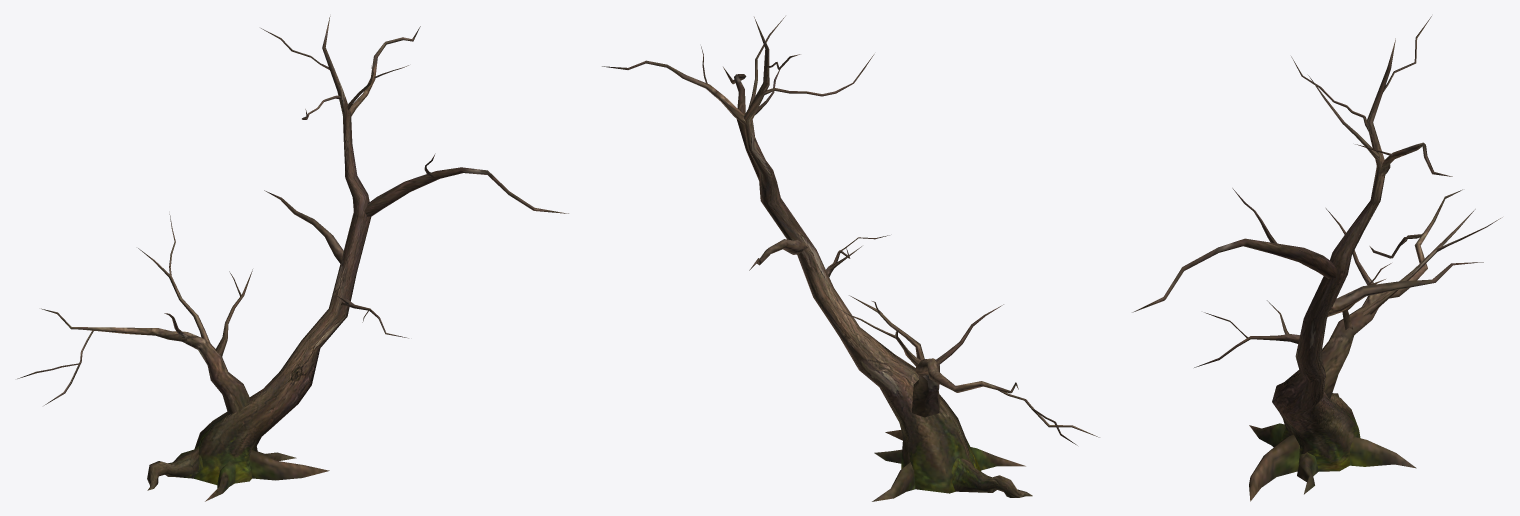
Rendered from S_Tree_Green140.FBX.
3 renders of one model, left to right at view 1: azimuth 30°, elevation 25°; view 2: azimuth 150°, elevation 25°; view 3: azimuth 270°, elevation 25°, orthographic. The views are drawn at different scales.
Parts seen in each view (by area): view 1: S_Tree_Green140; view 2: S_Tree_Green140; view 3: S_Tree_Green140.
Boxes of the visible parts, bbox=[...] form: S_Tree_Green140: bbox=[17, 16, 568, 501]; S_Tree_Green140: bbox=[602, 16, 1099, 501]; S_Tree_Green140: bbox=[1132, 16, 1502, 501].
Size of the model in its own units: 308 by 269 by 183.
